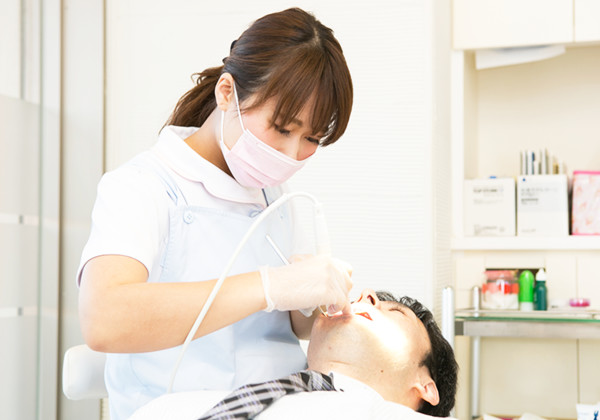mask: (220, 131, 315, 188)
